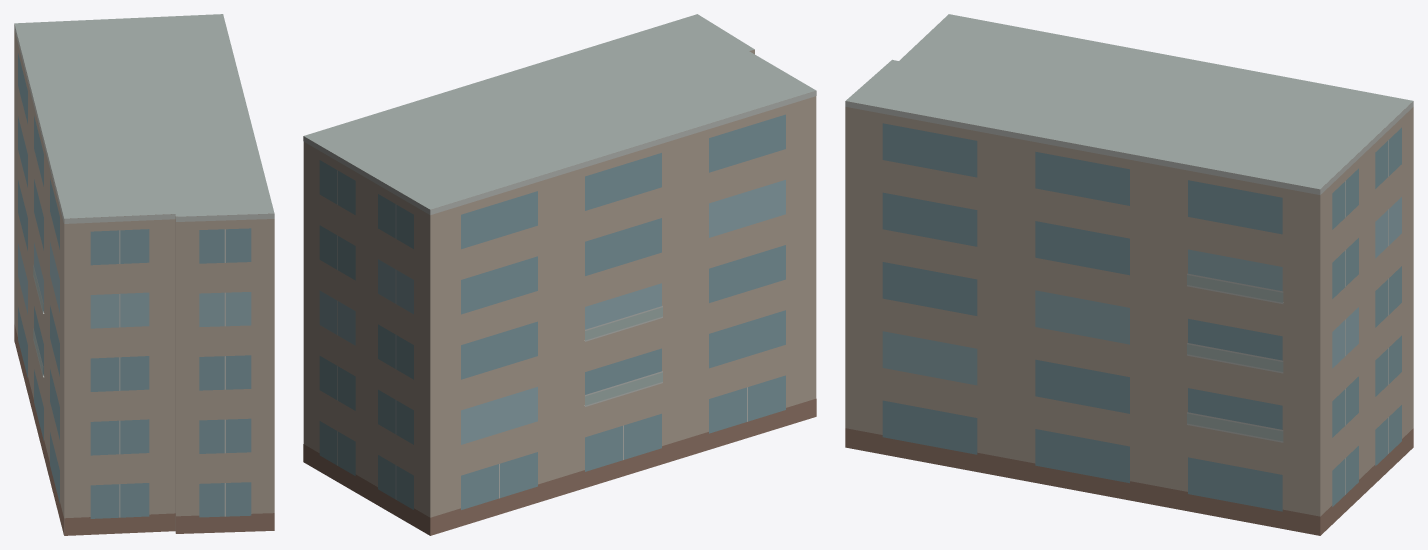
File: survey-upis-32657928.glb
3 renders of one model, left to right at view 1: azimuth 30°, elevation 25°; view 2: azimuth 150°, elevation 25°; view 3: azimuth 270°, elevation 25°, orthographic. The views are drawn at different scales.
Parts seen in each view (by area): view 1: survey-upis-32657928.tmp; view 2: survey-upis-32657928.tmp; view 3: survey-upis-32657928.tmp.
Part boxes in pixels (bbox=[...]): survey-upis-32657928.tmp: bbox=[14, 14, 274, 535]; survey-upis-32657928.tmp: bbox=[303, 14, 816, 535]; survey-upis-32657928.tmp: bbox=[845, 14, 1413, 535].
Bounding box in the file's own units: 15.8 × 14.55 × 21.63.
